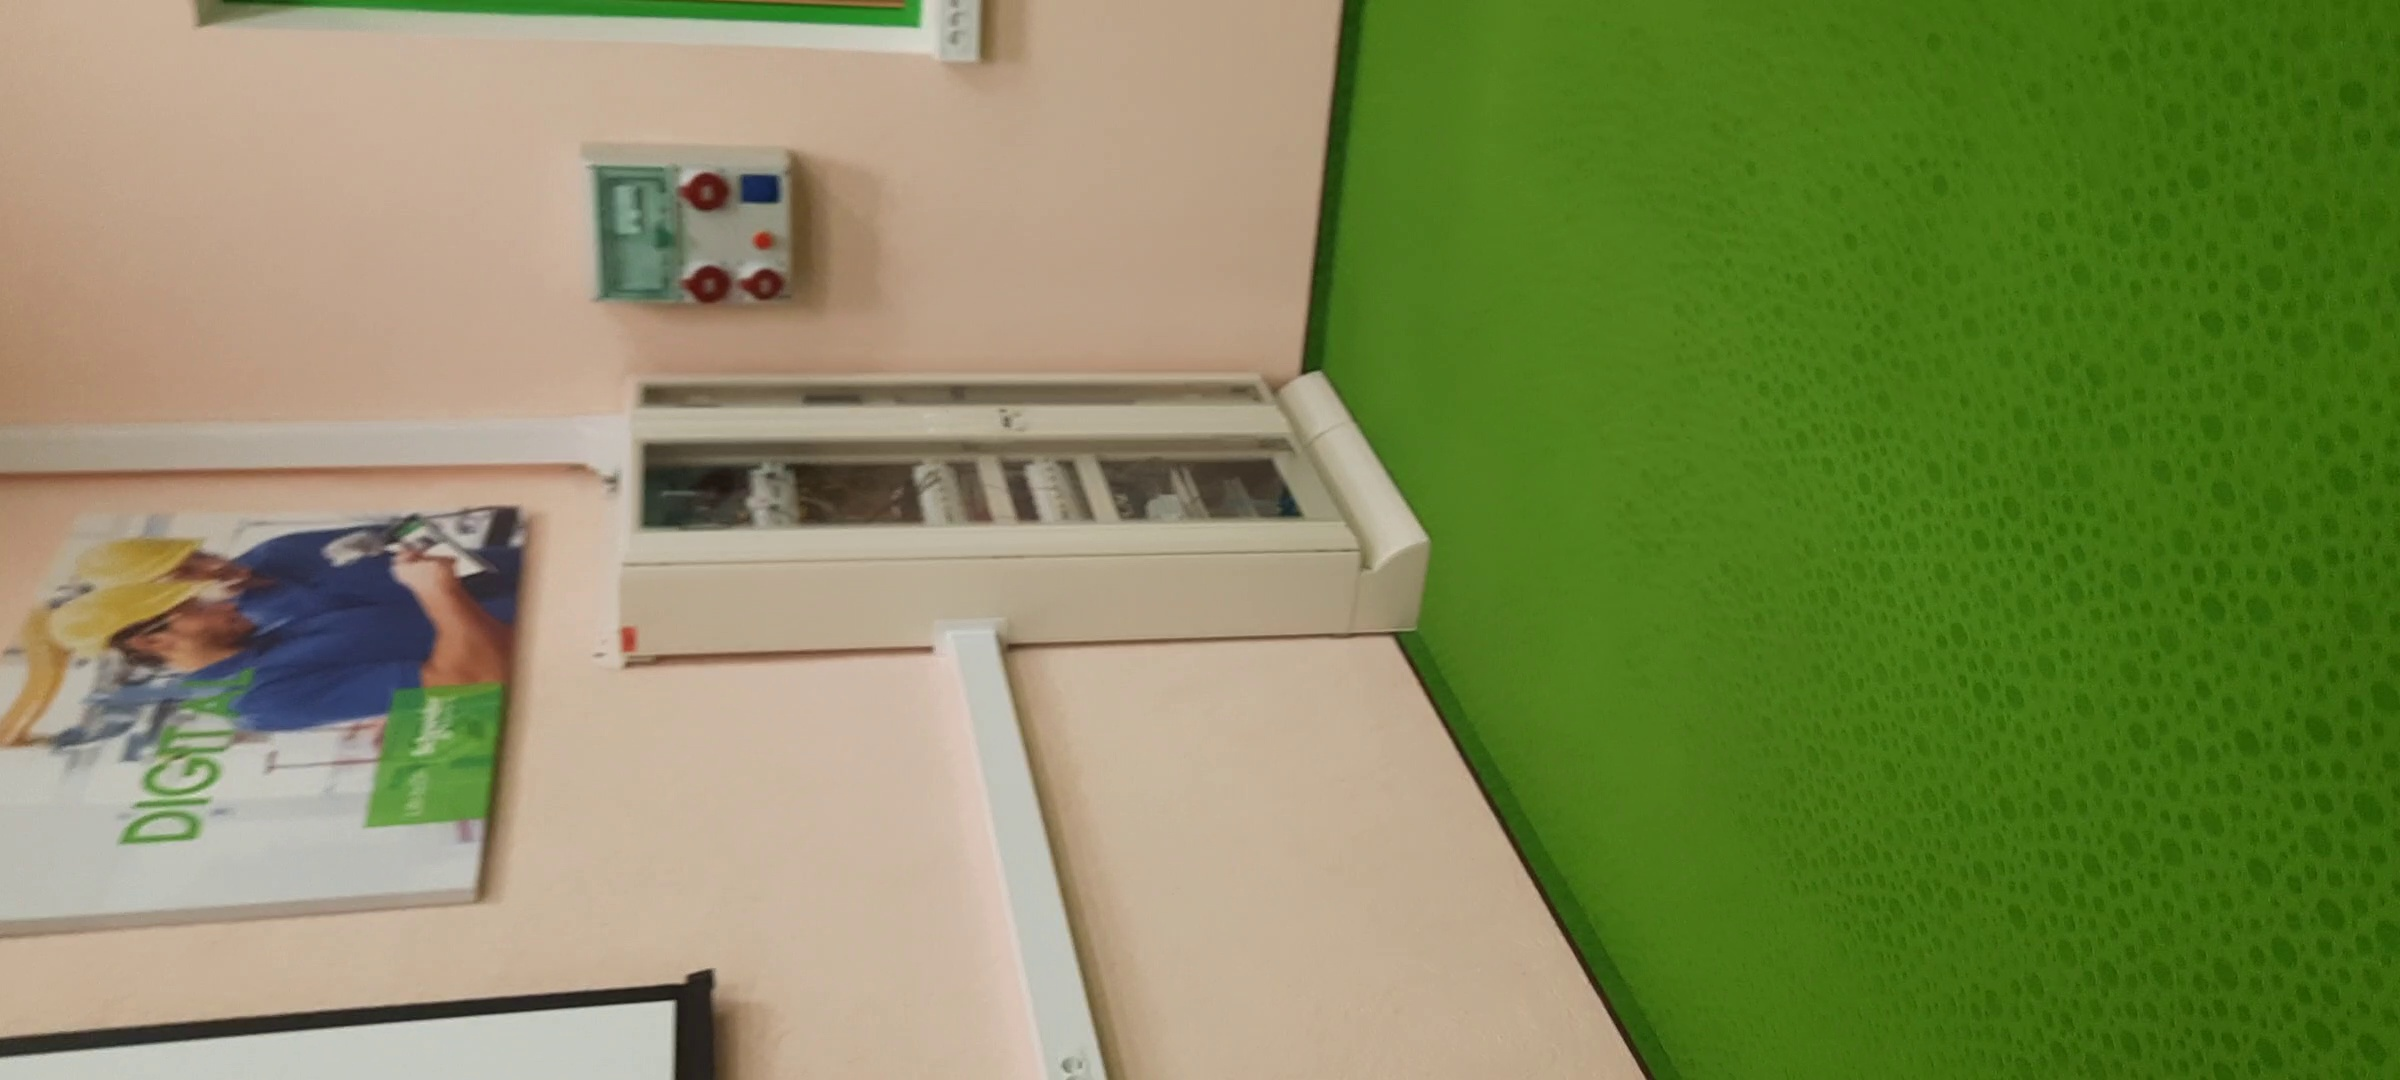stand1: (623, 372, 1414, 642)
